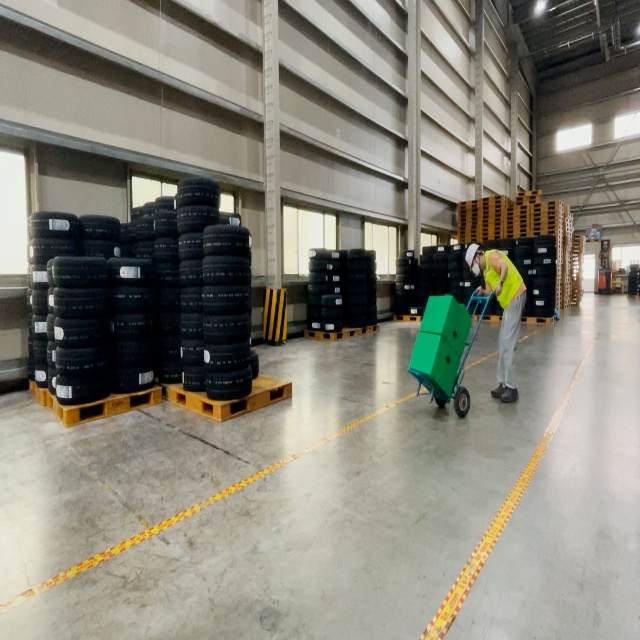Box: (419, 293, 472, 360), (409, 331, 461, 399)
Worker: (465, 240, 527, 405)
